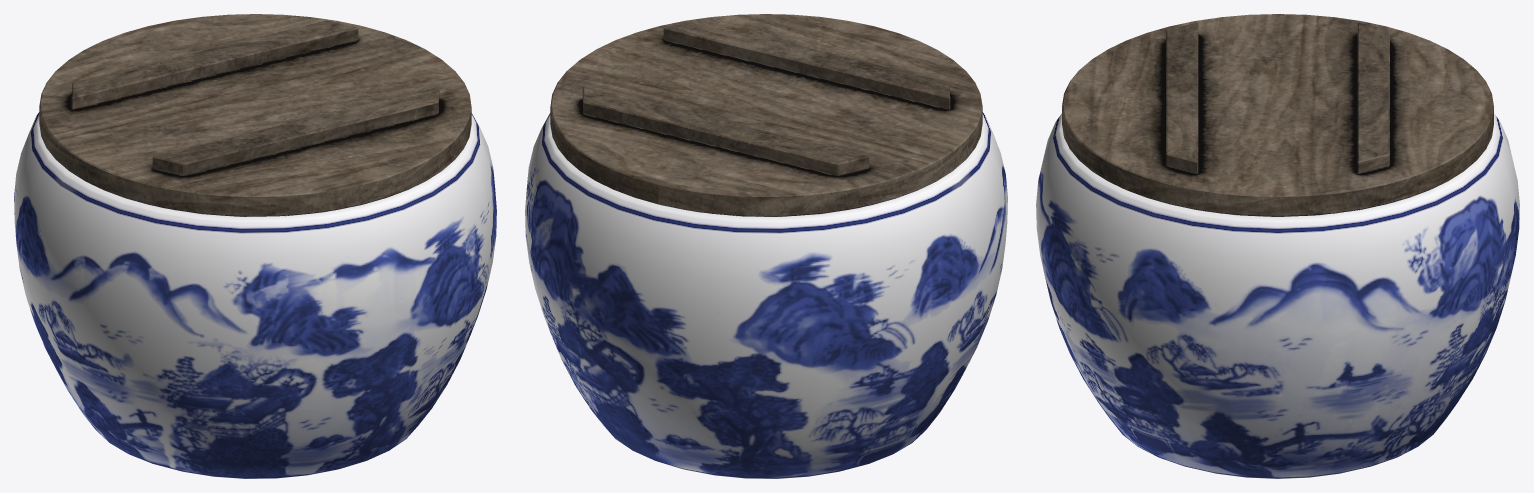
File: japanese_ceramic_brasero.glb
3 views of the same model, side by side, from view 1: azimuth 30°, elevation 25°; view 2: azimuth 150°, elevation 25°; view 3: azimuth 270°, elevation 25° (orthographic).
Parts seen in each view (by area): view 1: Hibachi; view 2: Hibachi; view 3: Hibachi.
Boxes of the visible parts, x1,y1,x2,y2 form: Hibachi: (14, 14, 496, 478); Hibachi: (525, 14, 1007, 478); Hibachi: (1036, 14, 1519, 478).
Size of the model in its own units: 38.15 by 27.85 by 38.15.
2 materials, 2 textured.
